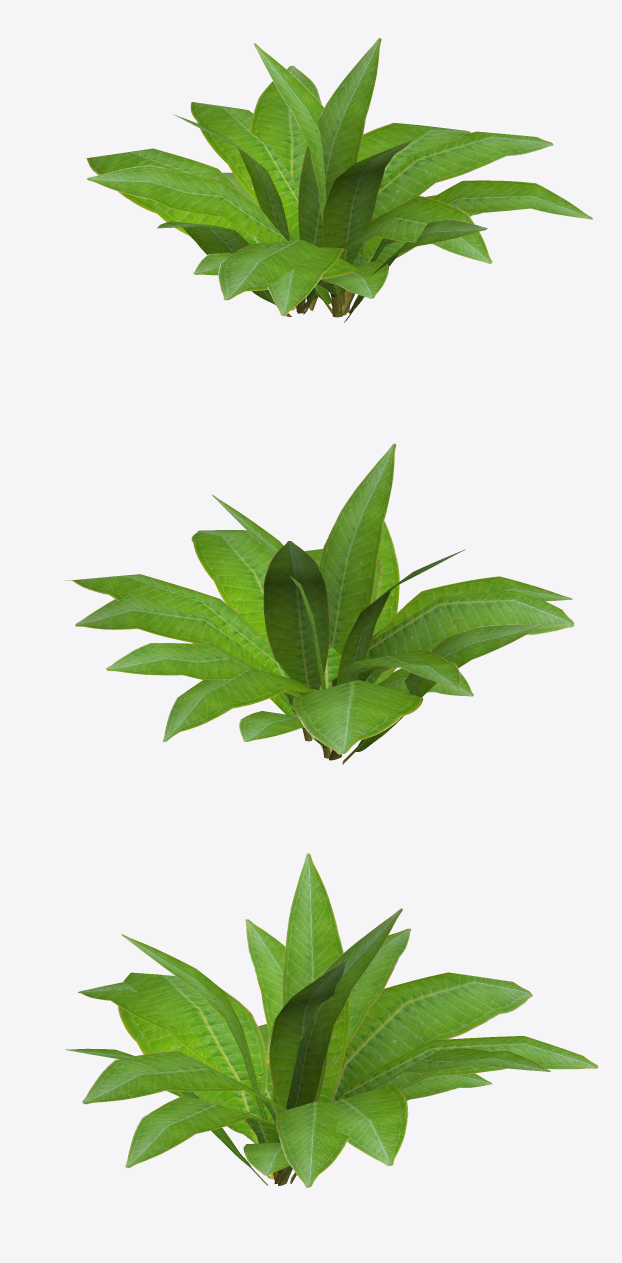
Rendered from tropical_leaf_b.glb.
The picture shows the model from 3 angles, top to bottom: view 1: azimuth 30°, elevation 25°; view 2: azimuth 150°, elevation 25°; view 3: azimuth 270°, elevation 25°; orthographic projection. The views are drawn at different scales.
Parts seen in each view (by area): view 1: Plant alpha 4; view 2: Plant alpha 4; view 3: Plant alpha 4.
Part boxes in pixels (left/top/right/bottom): Plant alpha 4: left=86, top=38, right=592, bottom=322; Plant alpha 4: left=65, top=443, right=574, bottom=764; Plant alpha 4: left=65, top=853, right=598, bottom=1188.
Bounding box in the file's own units: 2.13 × 1.2 × 2.13.
1 material, 1 textured.
